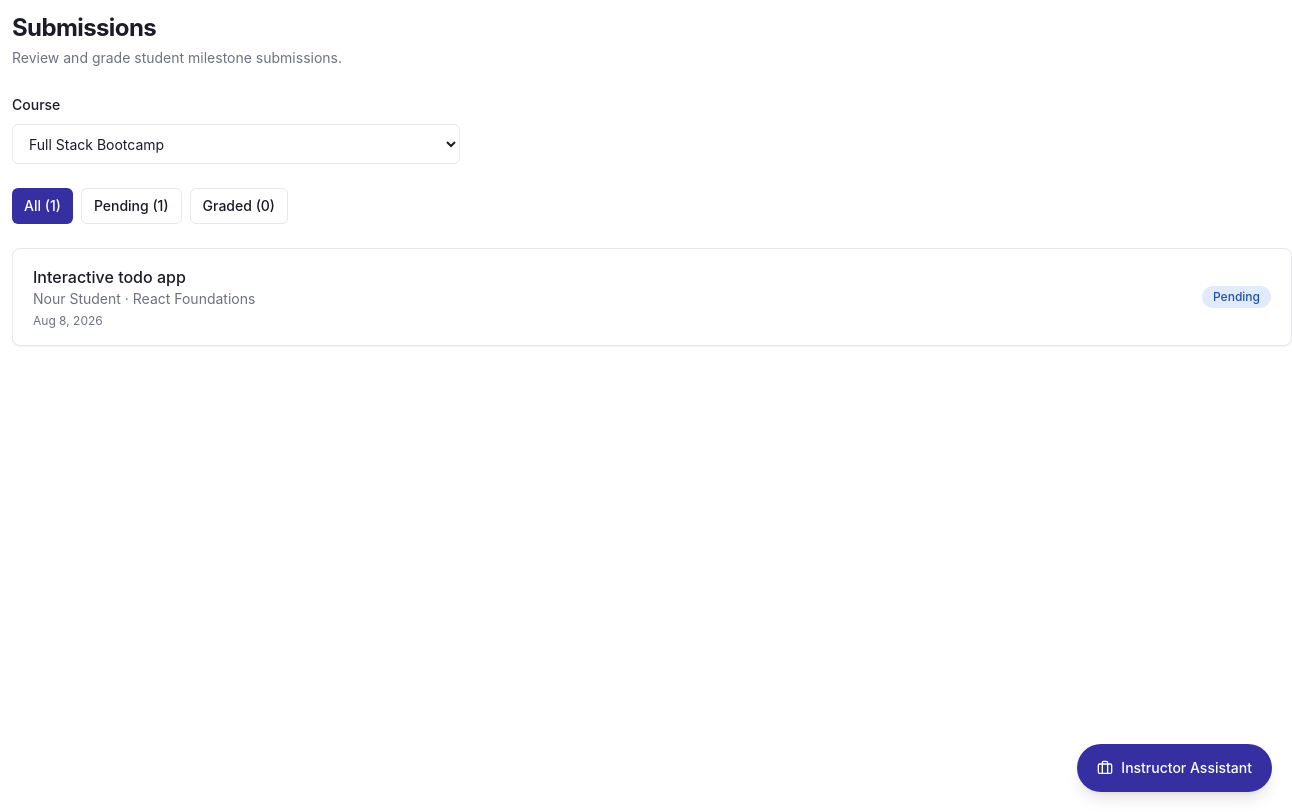
SubmissionsPage › shows an empty state for a selected filter
Expected: the text "Nour Student · React Foundations" is shown, [33,289,255,309]
Step 1. Click the button "Graded (0)" → (239, 206), box [190,188,288,224]
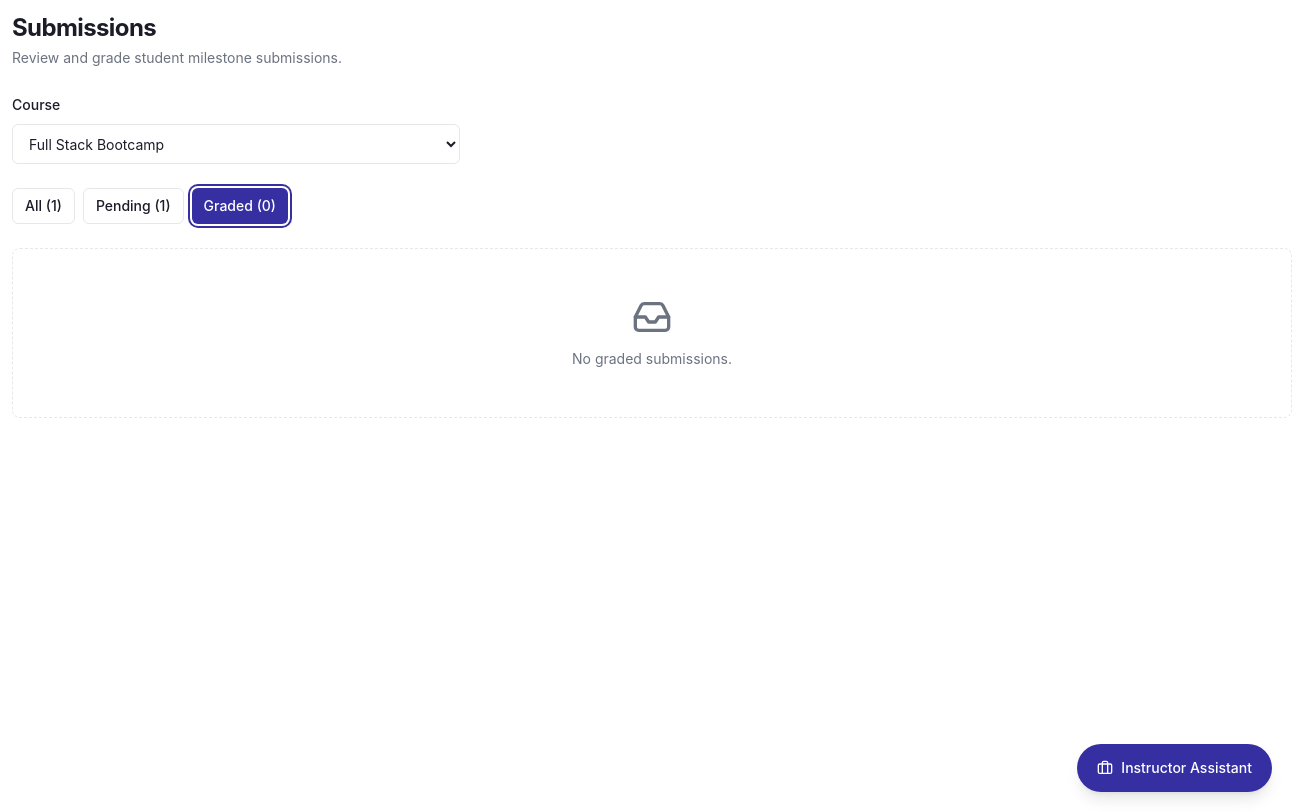
Expected: the text "No graded submissions." is shown, [572,349,732,369]
